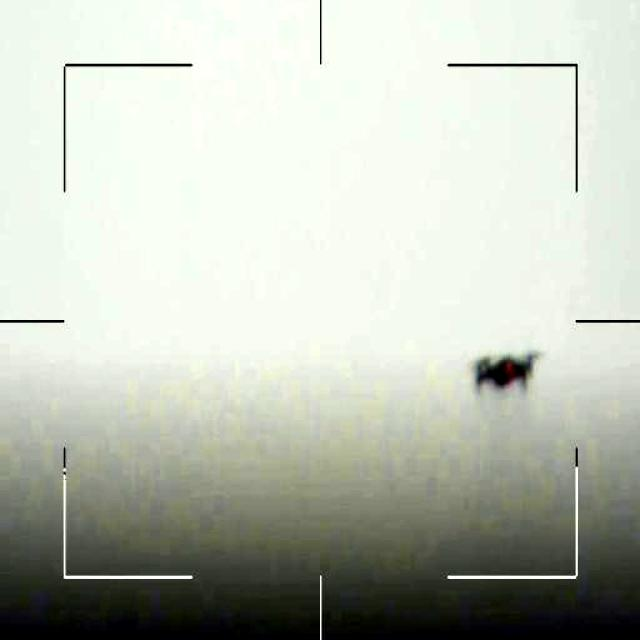bird: (466, 341, 540, 398)
